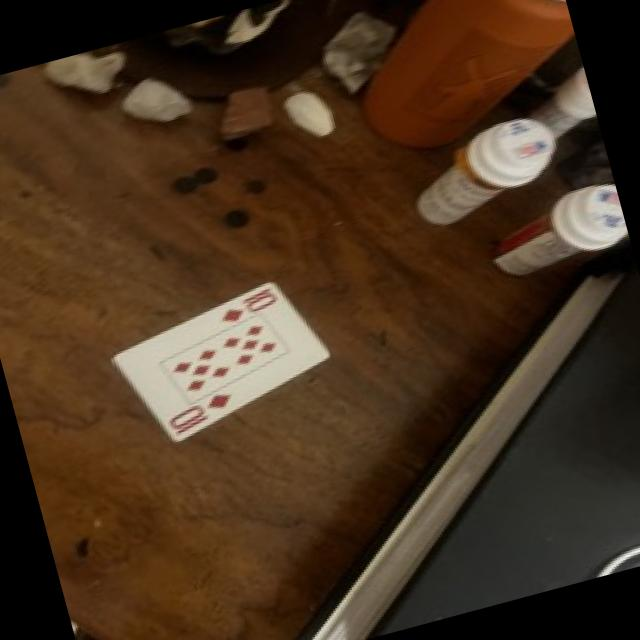10 of diamonds: (112, 283, 328, 441)
